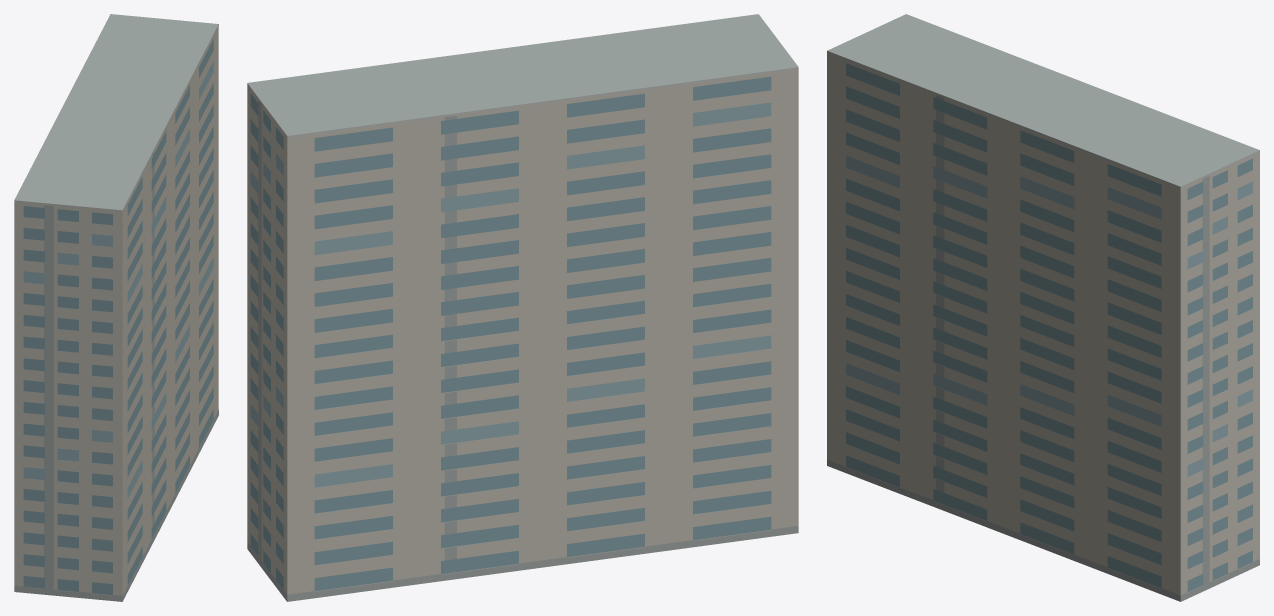
The model's file is residential-06dd951f-ef16-41be-bf53-f13713c598b2.glb.
The picture shows the model from 3 angles, left to right: view 1: azimuth 30°, elevation 25°; view 2: azimuth 150°, elevation 25°; view 3: azimuth 270°, elevation 25°; orthographic projection. The views are drawn at different scales.
Visible parts, largest first — view 1: residential-06dd951f-ef16-41be-bf53-f13713c598b2.tmp; view 2: residential-06dd951f-ef16-41be-bf53-f13713c598b2.tmp; view 3: residential-06dd951f-ef16-41be-bf53-f13713c598b2.tmp.
Boxes of the visible parts, <box> form: residential-06dd951f-ef16-41be-bf53-f13713c598b2.tmp: <box>14,14,218,601</box>; residential-06dd951f-ef16-41be-bf53-f13713c598b2.tmp: <box>247,14,798,601</box>; residential-06dd951f-ef16-41be-bf53-f13713c598b2.tmp: <box>827,14,1259,601</box>.
Bounding box in the file's own units: 42.86 × 48 × 45.36.
